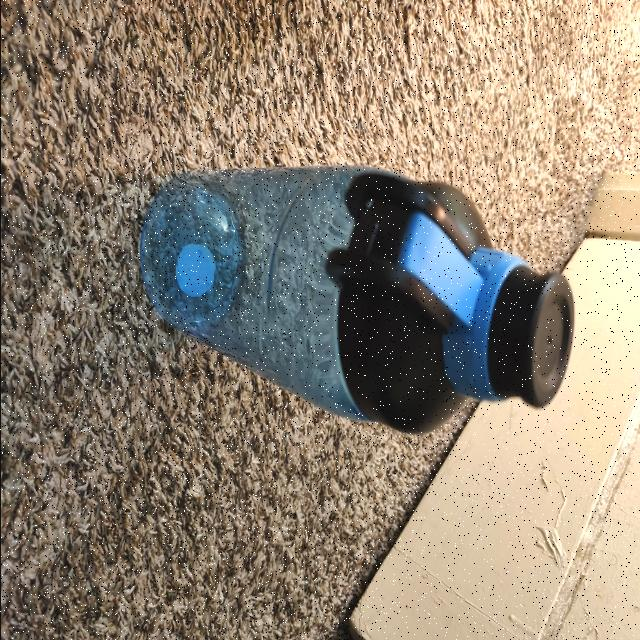bottle: (140, 160, 568, 436)
